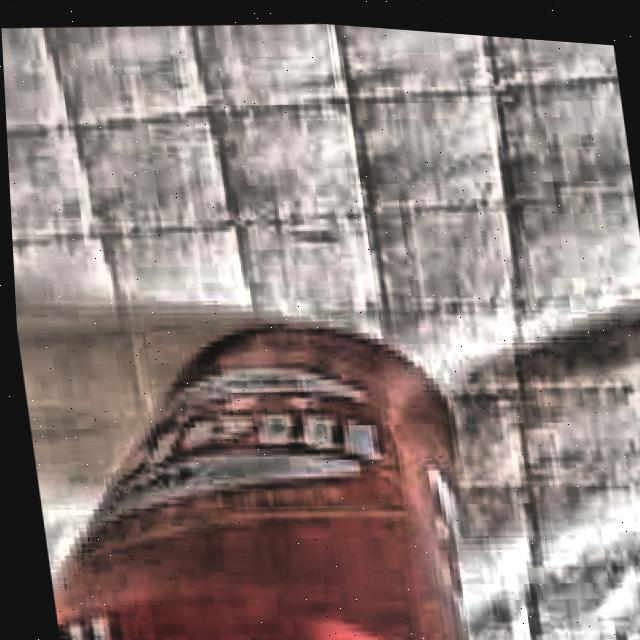metal: (45, 312, 473, 640)
